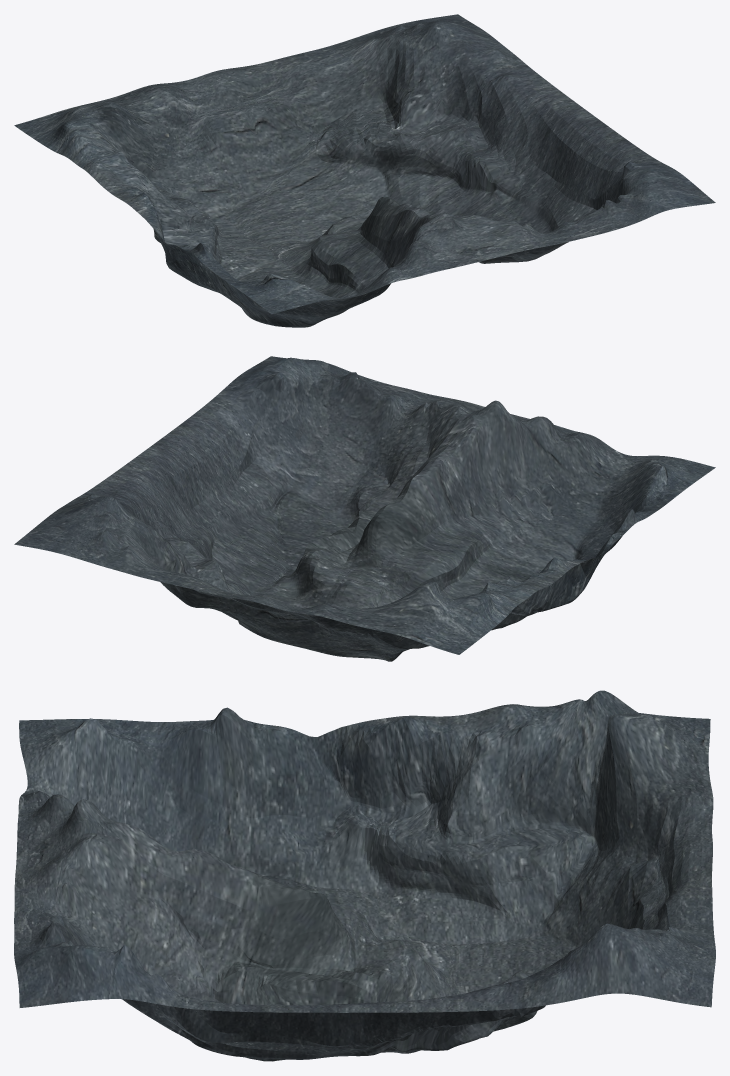
File: Sidewinder.obj
3 views of the same model, one above another, from view 1: azimuth 30°, elevation 25°; view 2: azimuth 150°, elevation 25°; view 3: azimuth 270°, elevation 25° (orthographic). The views are drawn at different scales.
Parts seen in each view (by area): view 1: Plane; view 2: Plane; view 3: Plane.
Boxes of the visible parts, x1,y1,x2,y2 form: Plane: (14,14,715,327); Plane: (14,356,715,661); Plane: (14,690,715,1061).
Bounding box in the file's own units: 30.2 × 8.34 × 30.41.
1 material, 1 textured.
